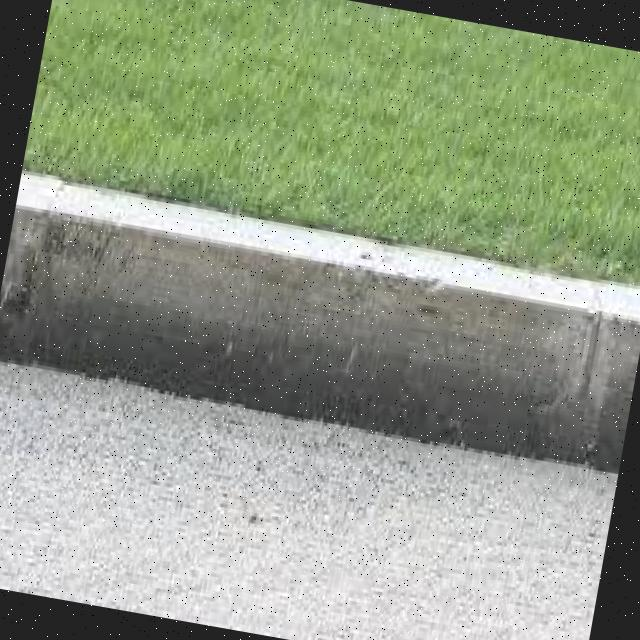curb: (1, 163, 640, 495)
